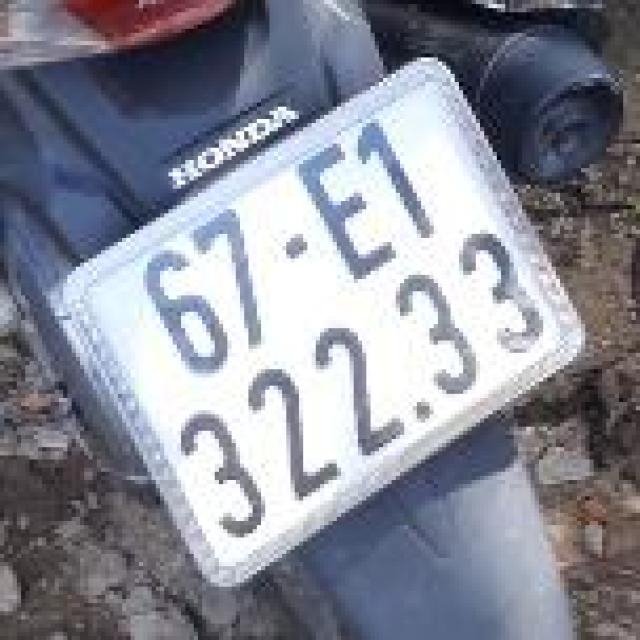1: (344, 110, 457, 258)
2: (225, 352, 355, 517), (290, 307, 419, 470)
3: (162, 397, 284, 554), (376, 260, 500, 411), (445, 209, 560, 367)
6: (129, 239, 244, 395)
7: (183, 201, 290, 359)
E: (286, 139, 408, 294)
